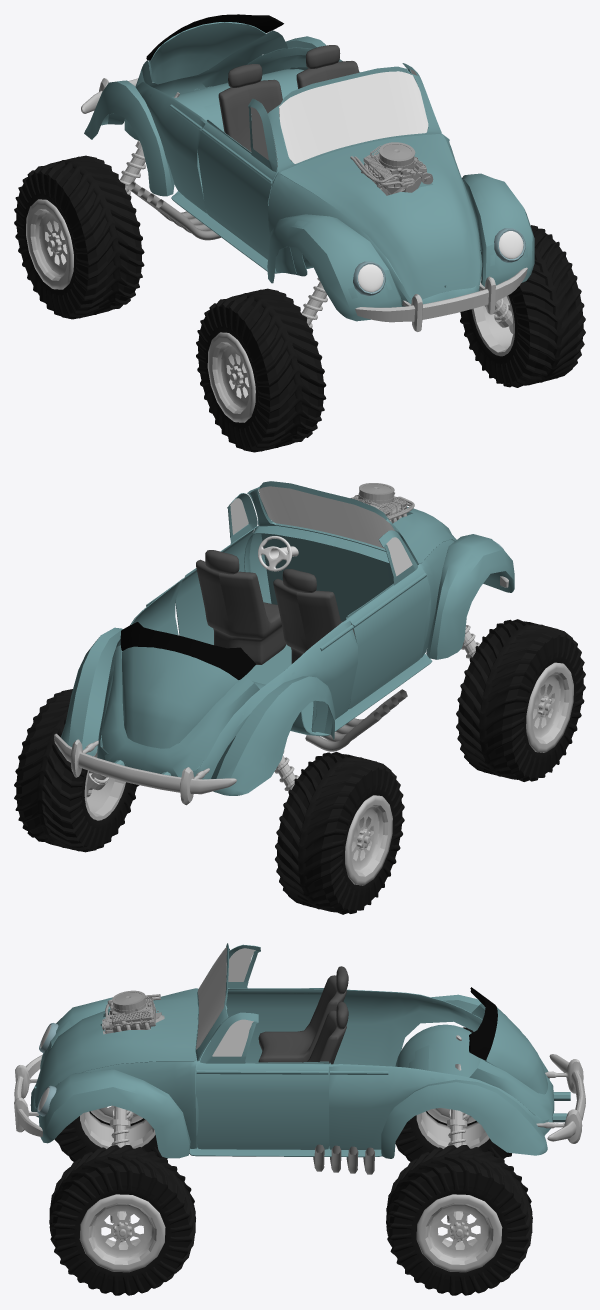
File: vosvosmodif.fbx
3 views of the same model, one above another, from view 1: azimuth 30°, elevation 25°; view 2: azimuth 150°, elevation 25°; view 3: azimuth 270°, elevation 25° (orthographic). The views are drawn at different scales.
Parts seen in each view (by area): view 1: kap depan.002, Circle.012, Circle.013, Circle.009, Cube.014, obj_0.002, Cube.015, NurbsPath.003; view 2: kap depan.002, Circle.012, Circle.013, Circle.011, Cube.015, Cube.014, NurbsPath.003, obj_0.002, Lenker.001; view 3: kap depan.002, Circle.011, Circle.009, Circle.013, Circle.012, Cube.014, obj_0.002, Cube.015, NurbsPath.003.
Part boxes in pixels (x1=…): kap depan.002: x1=81, y1=14, x2=534, y2=331; Circle.012: x1=14, y1=92, x2=179, y2=319; Circle.013: x1=196, y1=277, x2=327, y2=452; Circle.009: x1=460, y1=225, x2=585, y2=387; Cube.014: x1=218, y1=64, x2=291, y2=166; obj_0.002: x1=350, y1=142, x2=433, y2=195; Cube.015: x1=296, y1=45, x2=358, y2=88; NurbsPath.003: x1=128, y1=181, x2=220, y2=240; kap depan.002: x1=54, y1=481, x2=514, y2=805; Circle.012: x1=274, y1=750, x2=404, y2=914; Circle.013: x1=456, y1=619, x2=585, y2=781; Circle.011: x1=14, y1=689, x2=139, y2=852; Cube.015: x1=196, y1=550, x2=285, y2=664; Cube.014: x1=273, y1=568, x2=354, y2=663; NurbsPath.003: x1=305, y1=689, x2=407, y2=751; obj_0.002: x1=350, y1=483, x2=414, y2=523; Lenker.001: x1=258, y1=536, x2=298, y2=571; kap depan.002: x1=14, y1=943, x2=585, y2=1158; Circle.011: x1=386, y1=1064, x2=532, y2=1295; Circle.009: x1=49, y1=1106, x2=195, y2=1295; Circle.013: x1=54, y1=1105, x2=167, y2=1161; Circle.012: x1=395, y1=1027, x2=511, y2=1161; Cube.014: x1=258, y1=966, x2=348, y2=1062; obj_0.002: x1=102, y1=990, x2=164, y2=1034; Cube.015: x1=307, y1=1001, x2=348, y2=1064; NurbsPath.003: x1=313, y1=1144, x2=374, y2=1174.
Bounding box in the file's own units: 386 × 332 × 641.
